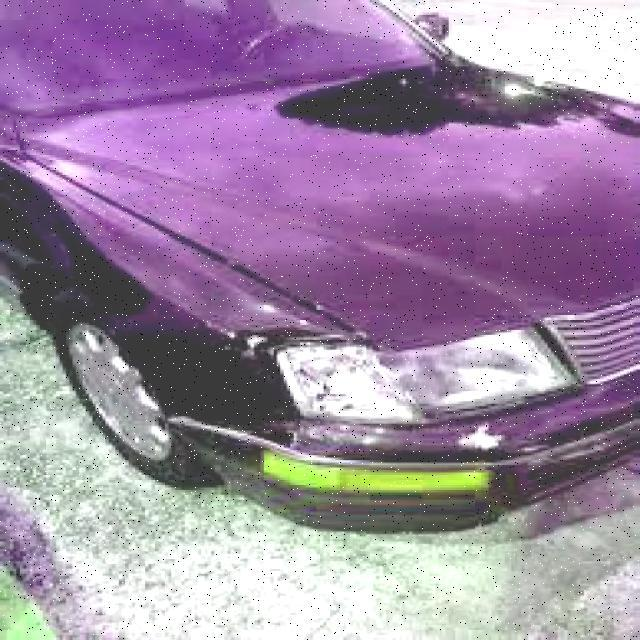car damage: (291, 419, 523, 456), (224, 316, 388, 368)
